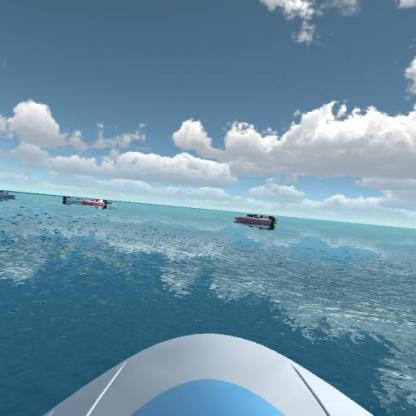usv0: (100, 197, 116, 205)
usv1: (0, 186, 21, 203), (61, 192, 83, 208)
usv3: (230, 206, 276, 232), (82, 197, 113, 211)
